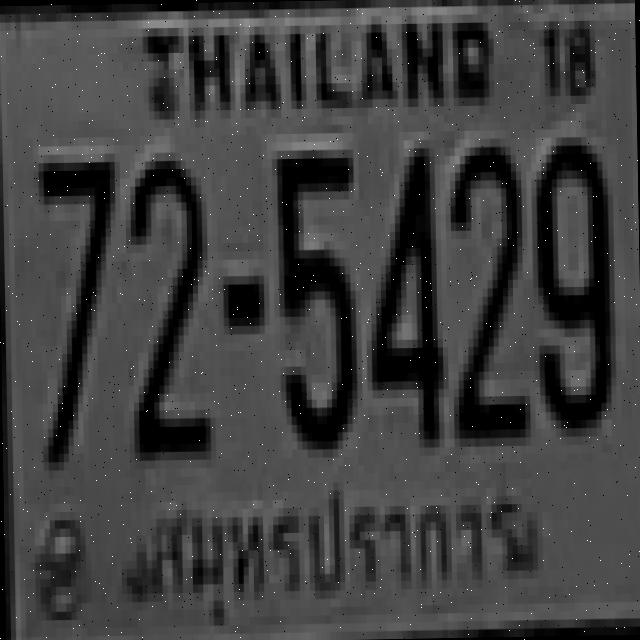2: (124, 152, 205, 452), (447, 138, 522, 438)
4: (363, 140, 439, 440)
5: (272, 149, 352, 441)
7: (32, 154, 114, 462), (32, 154, 112, 362)
9: (530, 132, 612, 424)
SamutPrakan: (141, 478, 530, 614)
